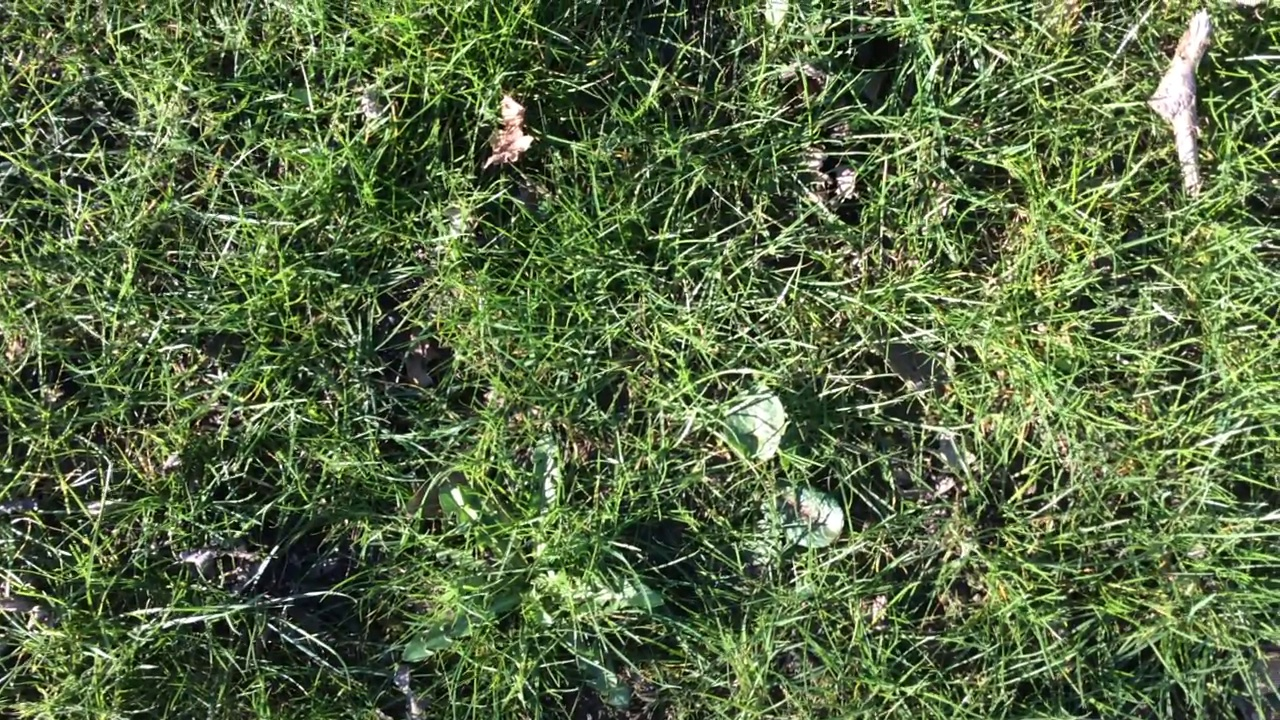rumex: (765, 490, 844, 547), (727, 388, 787, 461)
